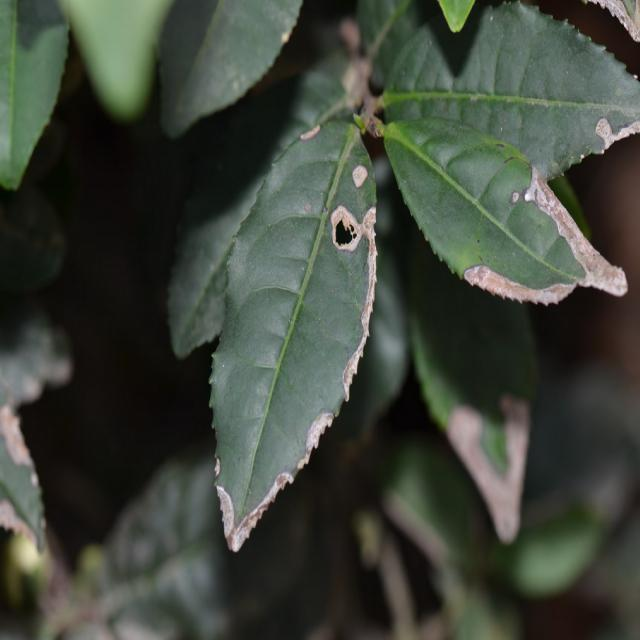Tea cloud leaf blight: (211, 181, 377, 538), (456, 153, 638, 321)
